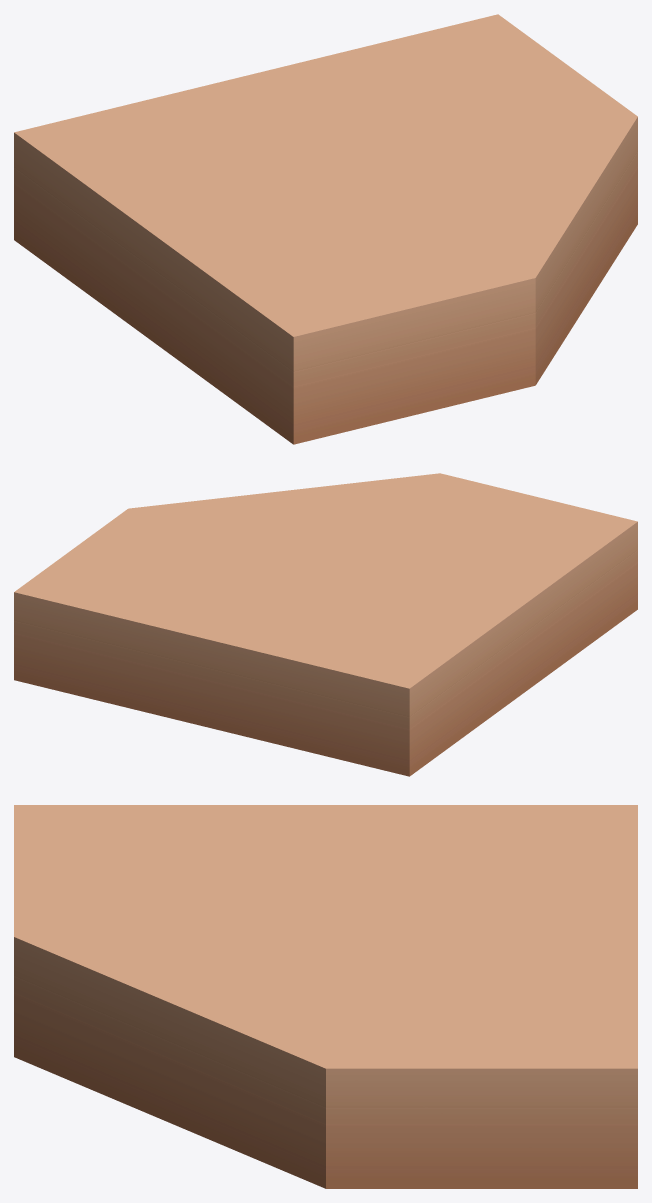
File: roof-flat-corner-high.glb
The picture shows the model from 3 angles, top to bottom: view 1: azimuth 30°, elevation 25°; view 2: azimuth 150°, elevation 25°; view 3: azimuth 270°, elevation 25°; orthographic projection. The views are drawn at different scales.
Visible parts, largest first — view 1: roof-flat-corner-high; view 2: roof-flat-corner-high; view 3: roof-flat-corner-high.
Part boxes in pixels (x1,y1,x2,y2): roof-flat-corner-high: [14, 14, 637, 444]; roof-flat-corner-high: [14, 473, 637, 776]; roof-flat-corner-high: [14, 805, 637, 1188].
Size of the model in its own units: 1 by 0.2125 by 1.
Materials: 1 (1 with a texture image).
